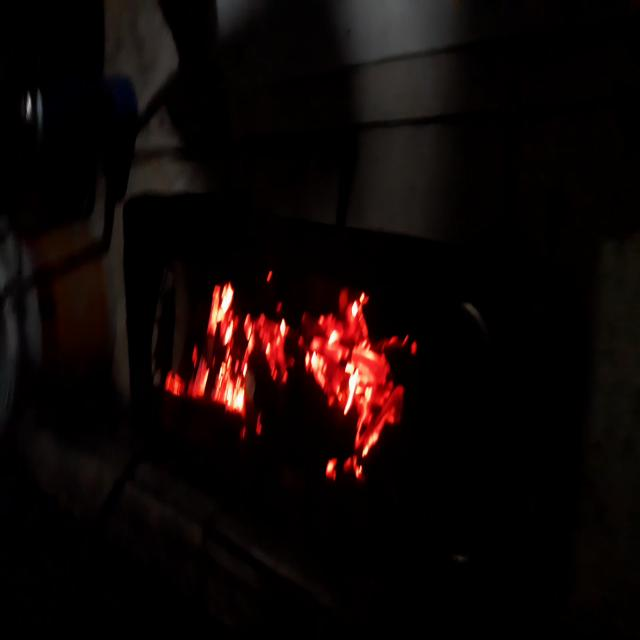Fire: (152, 244, 428, 489)
